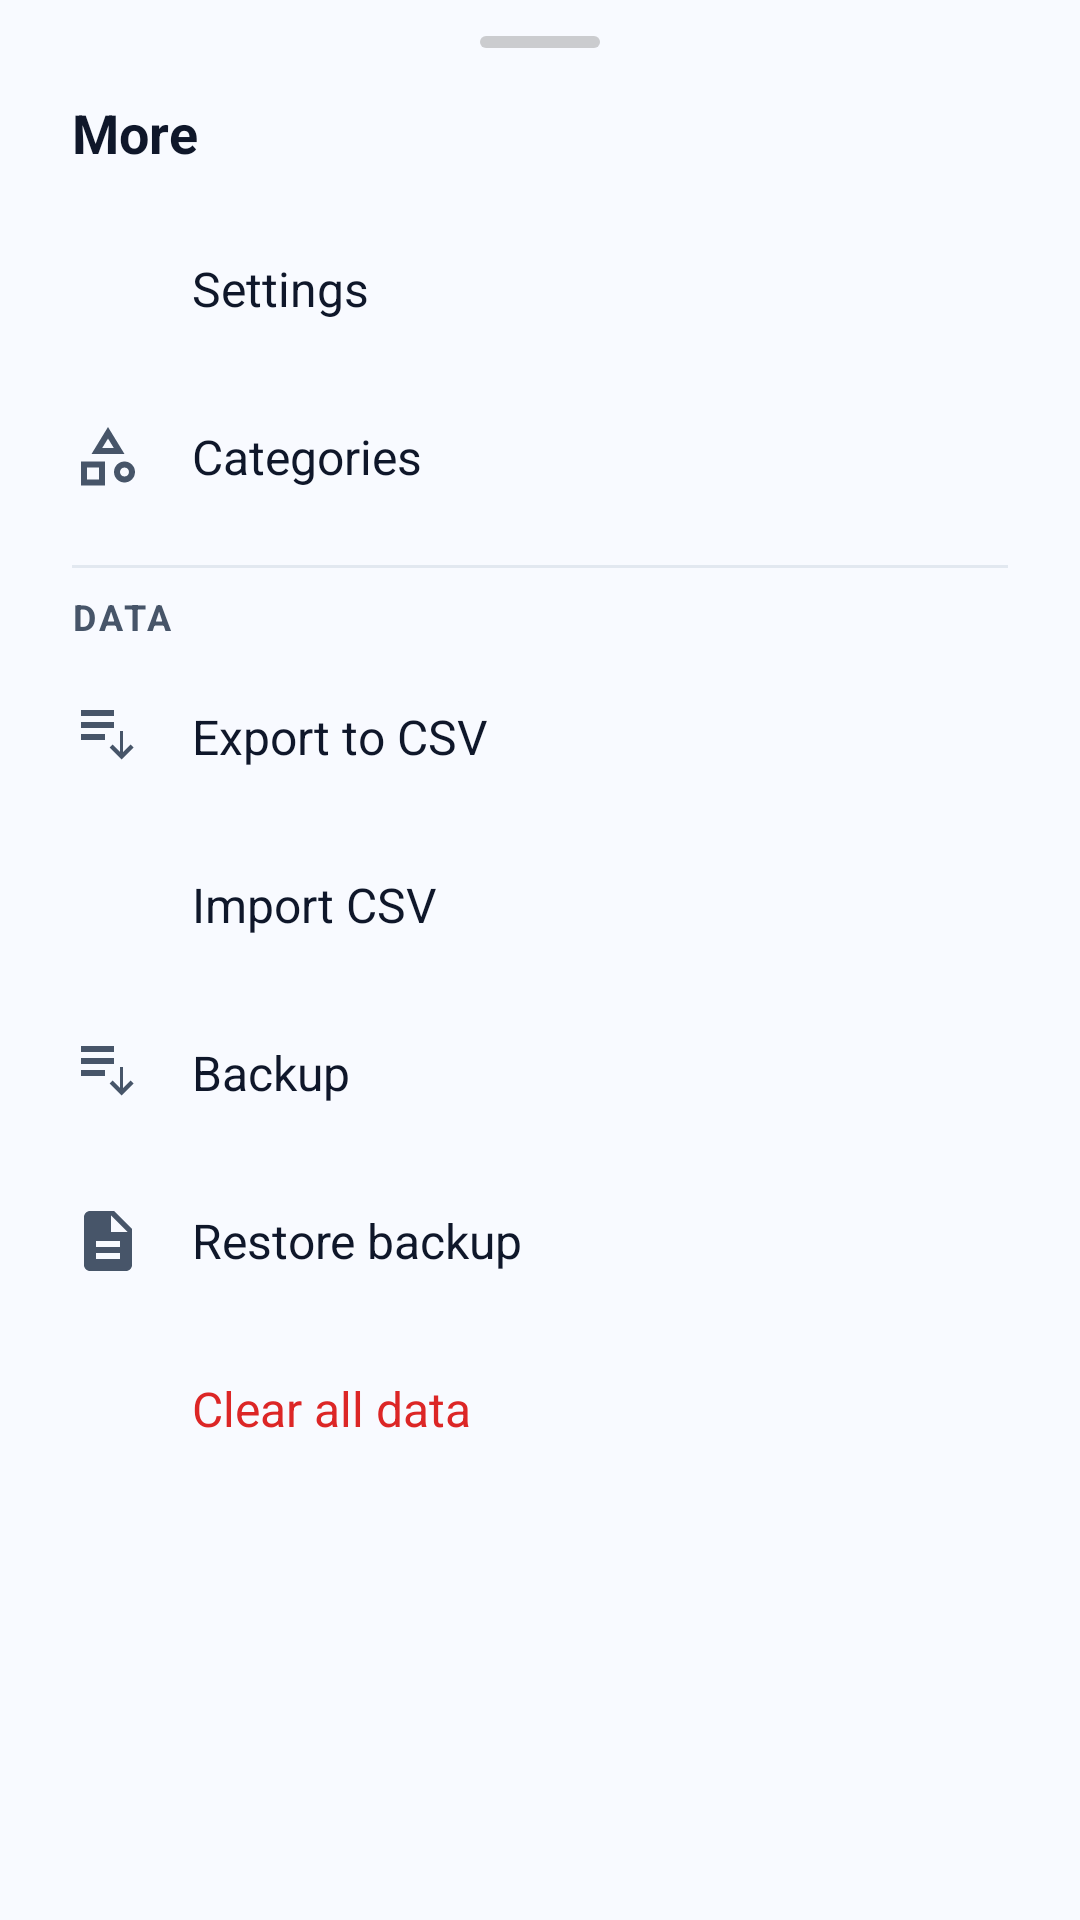

Named icons in this screenshot (1080w x 1920h) and their bounding boxes, (x1, y1, x2, y2):
bill: (84, 1211, 132, 1271)
category: (81, 427, 135, 486)
